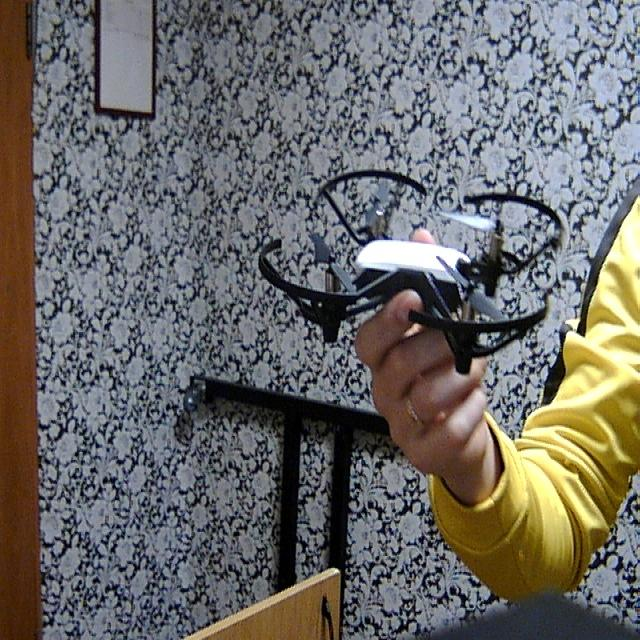drone: (256, 146, 574, 382)
